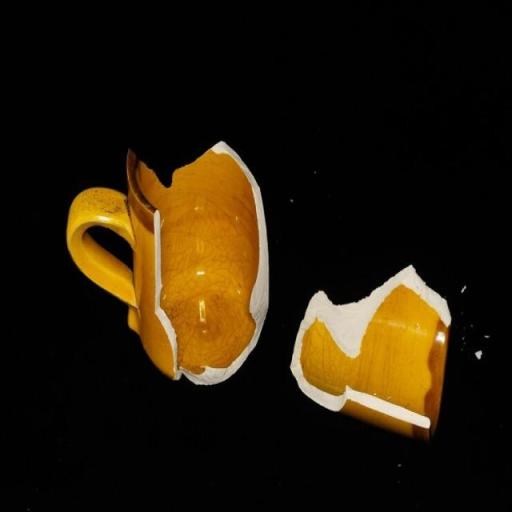glass: (66, 141, 264, 381), (290, 264, 453, 446)
